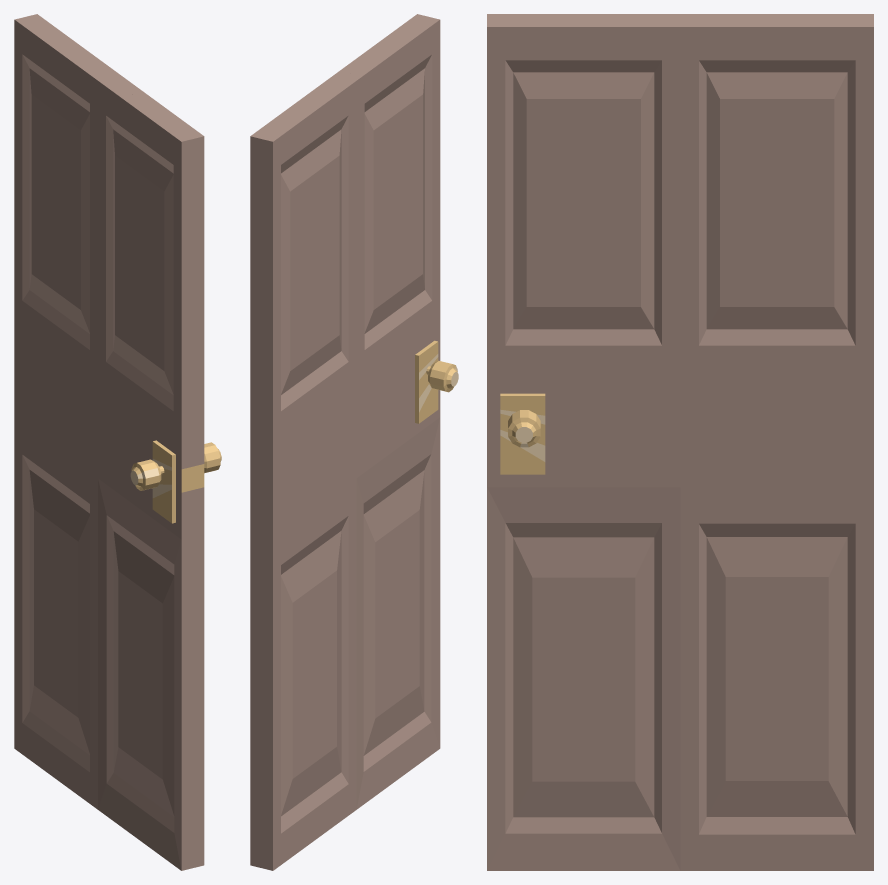
File: door.glb
The picture shows the model from 3 angles, left to right: view 1: azimuth 30°, elevation 25°; view 2: azimuth 150°, elevation 25°; view 3: azimuth 270°, elevation 25°; orthographic projection. The views are drawn at different scales.
Visible parts, largest first — view 1: group1559002970; view 2: group1559002970; view 3: group1559002970.
Boxes of the visible parts, x1=… form: group1559002970: x1=14, y1=14, x2=221, y2=870; group1559002970: x1=250, y1=14, x2=458, y2=870; group1559002970: x1=487, y1=14, x2=873, y2=870.
Size of the model in its own units: 0.2187 by 1.83 by 0.76.
